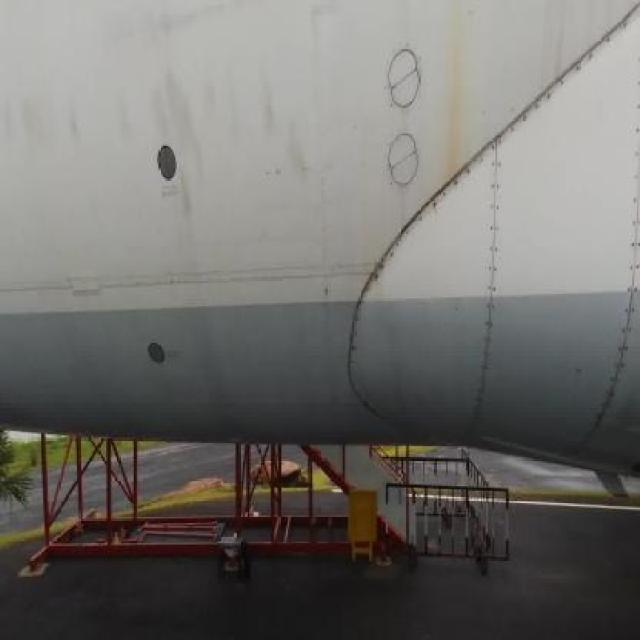Missing-Rivet: (512, 11, 636, 123), (598, 105, 640, 409), (346, 236, 396, 398), (481, 126, 504, 402), (386, 164, 476, 231)
Rust: (420, 1, 472, 204)
Scartch: (113, 62, 327, 230), (1, 74, 93, 163), (136, 0, 256, 46), (294, 1, 346, 61)
